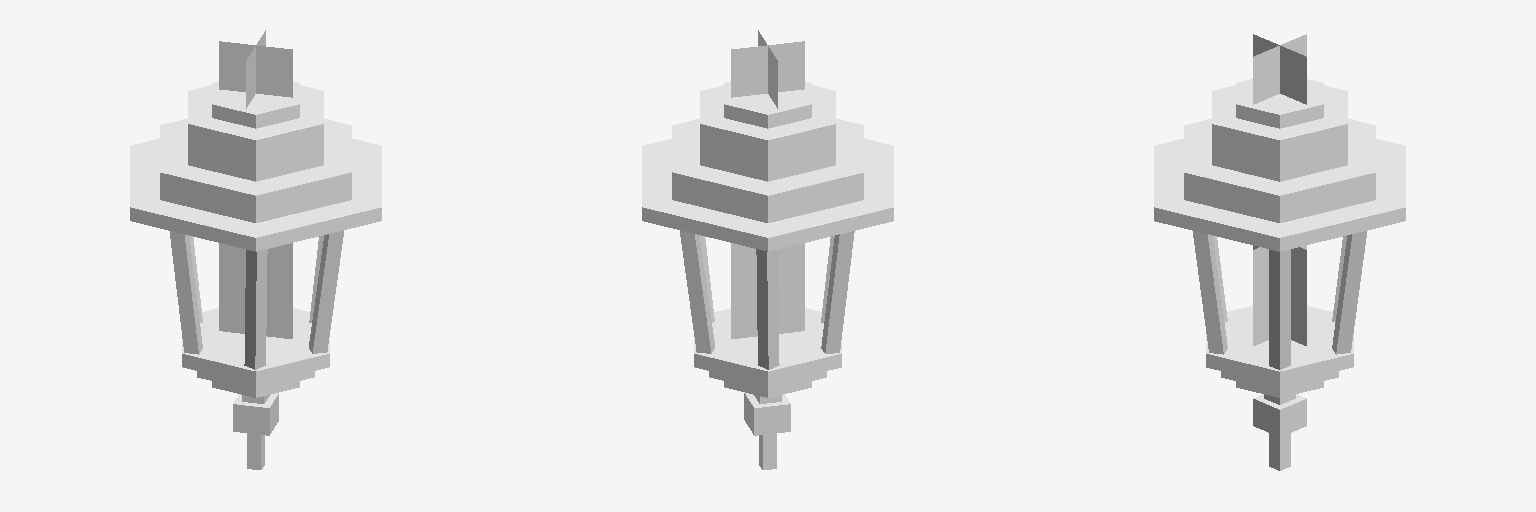
The model's file is mt_streetlamp_a.obj.
3 views of the same model, side by side, from view 1: azimuth 30°, elevation 25°; view 2: azimuth 150°, elevation 25°; view 3: azimuth 270°, elevation 25° (orthographic).
Parts seen in each view (by area): view 1: cube.005, octagon.015, octagon.012, octagon.016, octagon.003, octagon.013, octagon.004, octagon.000, cube.007, cube, octagon.011, cube.000 (+9 smaller); view 2: cube.006, octagon.015, octagon.012, octagon.003, octagon.014, octagon.000, octagon.002, cube.008, octagon.013, octagon.011, cube.003, cube.004 (+10 smaller); view 3: octagon.016, octagon.012, octagon.004, octagon.013, octagon.014, octagon.002, octagon.011, octagon.015, cube.002, cube.004, cube.000, octagon.000 (+12 smaller).
Boxes of the visible parts, x1=… form: cube.005: x1=219, y1=243, x2=292, y2=338; octagon.015: x1=160, y1=119, x2=351, y2=222; octagon.012: x1=131, y1=138, x2=381, y2=251; octagon.016: x1=160, y1=119, x2=351, y2=222; octagon.003: x1=189, y1=85, x2=323, y2=181; octagon.013: x1=130, y1=139, x2=380, y2=251; octagon.004: x1=188, y1=85, x2=322, y2=181; octagon.000: x1=200, y1=308, x2=329, y2=384; cube.007: x1=219, y1=41, x2=292, y2=97; cube: x1=244, y1=249, x2=267, y2=369; octagon.011: x1=130, y1=146, x2=381, y2=206; cube.000: x1=309, y1=230, x2=343, y2=353; cube.006: x1=731, y1=243, x2=804, y2=338; octagon.015: x1=672, y1=119, x2=863, y2=222; octagon.012: x1=642, y1=138, x2=892, y2=251; octagon.003: x1=700, y1=85, x2=834, y2=181; octagon.014: x1=676, y1=119, x2=863, y2=222; octagon.000: x1=694, y1=308, x2=823, y2=384; octagon.002: x1=702, y1=85, x2=835, y2=181; cube.008: x1=731, y1=41, x2=804, y2=97; octagon.013: x1=642, y1=146, x2=893, y2=206; octagon.011: x1=643, y1=139, x2=893, y2=251; cube.003: x1=756, y1=249, x2=779, y2=369; cube.004: x1=680, y1=230, x2=714, y2=353; octagon.016: x1=1188, y1=119, x2=1375, y2=222; octagon.012: x1=1154, y1=146, x2=1405, y2=206; octagon.004: x1=1214, y1=85, x2=1347, y2=181; octagon.013: x1=1155, y1=139, x2=1405, y2=251; octagon.014: x1=1184, y1=119, x2=1371, y2=222; octagon.002: x1=1212, y1=85, x2=1345, y2=181; octagon.011: x1=1154, y1=139, x2=1404, y2=251; octagon.015: x1=1184, y1=125, x2=1375, y2=171; cube.002: x1=1269, y1=249, x2=1290, y2=369; cube.004: x1=1332, y1=231, x2=1366, y2=354; cube.000: x1=1193, y1=231, x2=1227, y2=354; octagon.000: x1=1206, y1=317, x2=1353, y2=352.
Size of the model in its own units: 1.2 by 1.91 by 1.04.